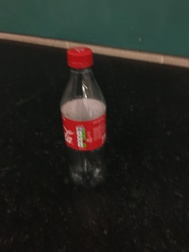bottle_red: (52, 41, 116, 193)
